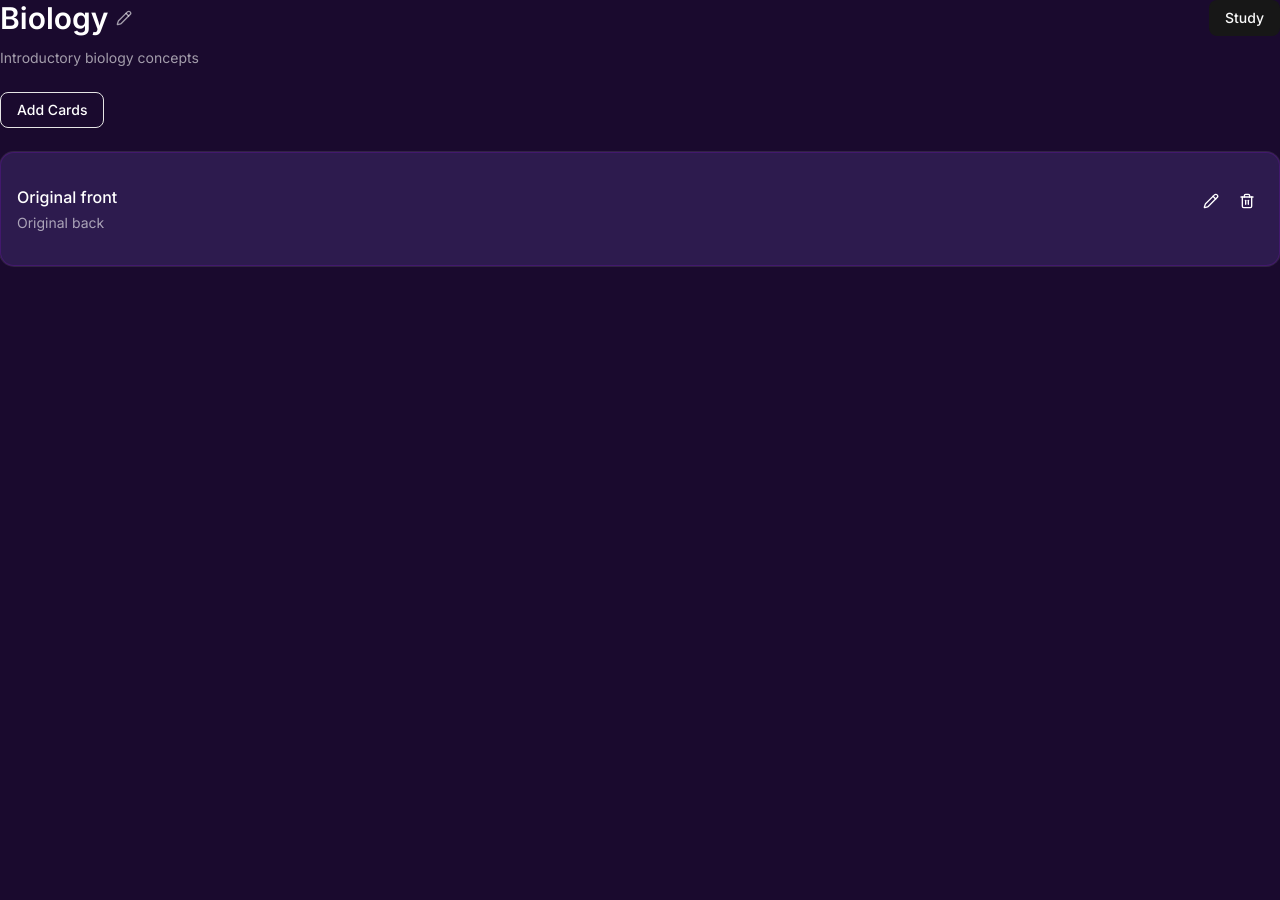
Test: DeckDetailView › edits and deletes cards from the loaded list
Expected: the text "Original front" is shown, [17,185,117,209]
Click the button named "edit card original front" at coordinates (1211, 201), box [1195,185,1227,217]
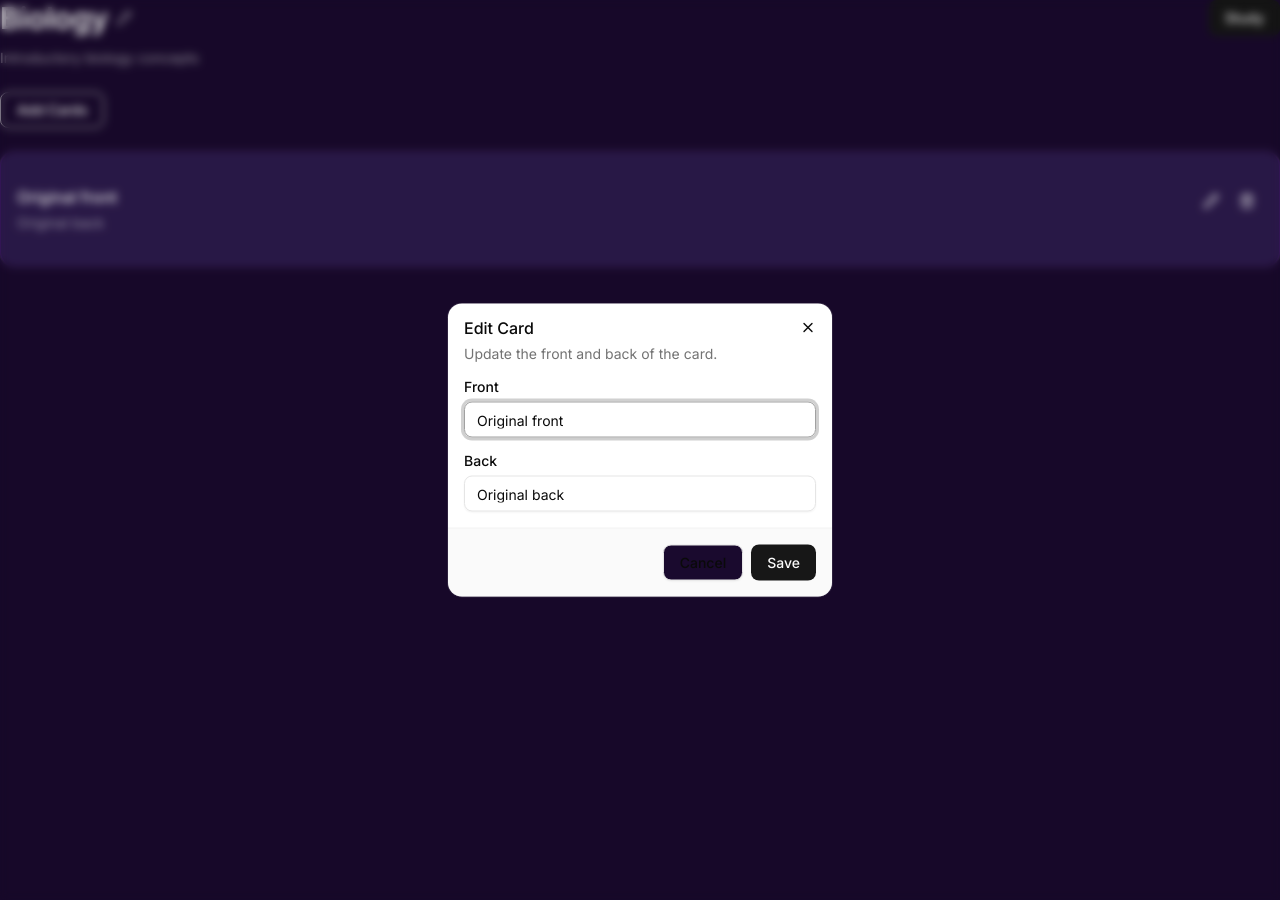
Replace the text in the field showing "Original front" with "Updated front" at coordinates (640, 420), box [464,402,816,438]
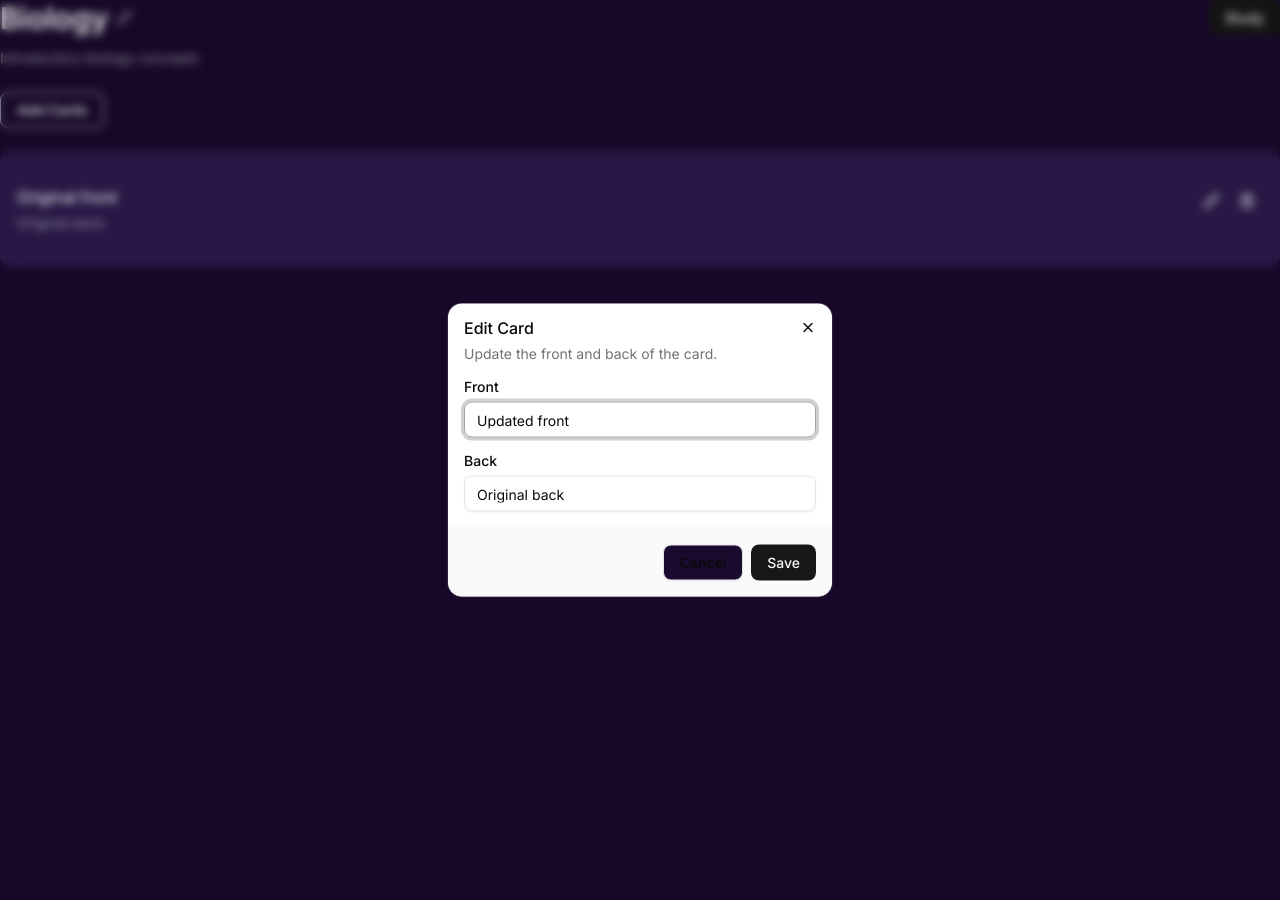
Replace the text in the field showing "Original back" with "Updated back" at coordinates (640, 494), box [464,476,816,512]
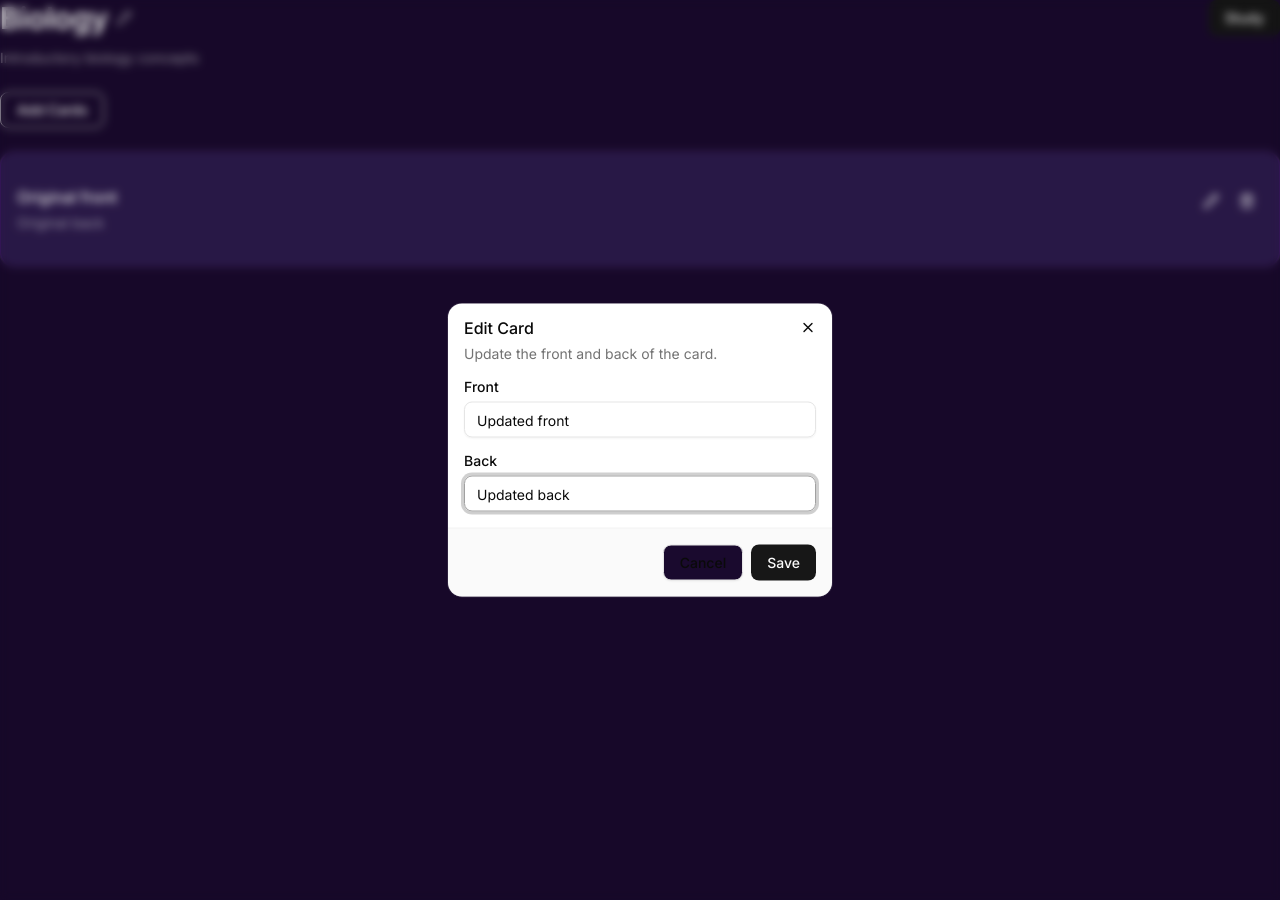
Click the button "Save" at coordinates (784, 562), box [751,544,816,580]
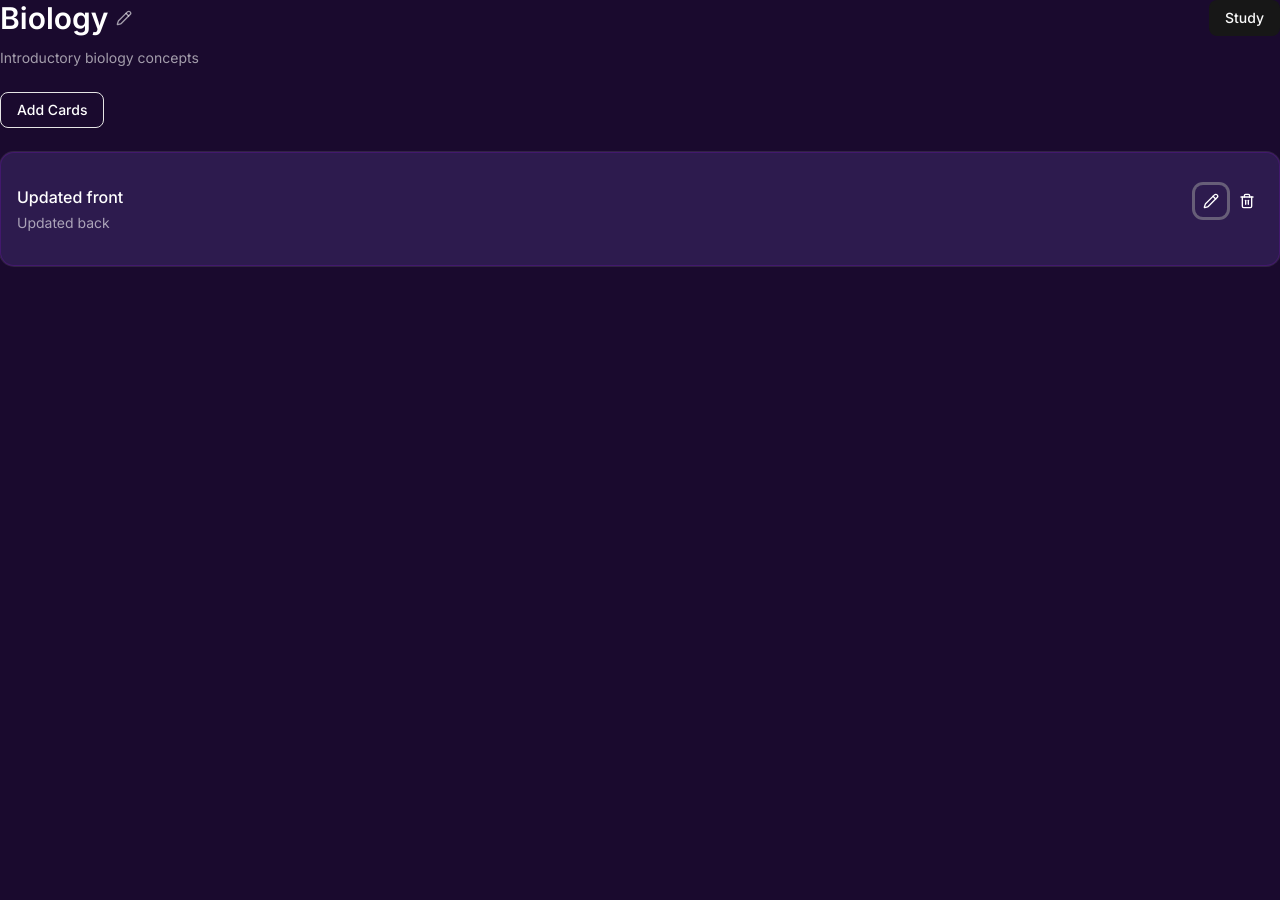
Expected: the text "Updated front" is shown, [17,185,123,209]
Click the button named "delete card updated front" at coordinates (1247, 201), box [1231,185,1263,217]
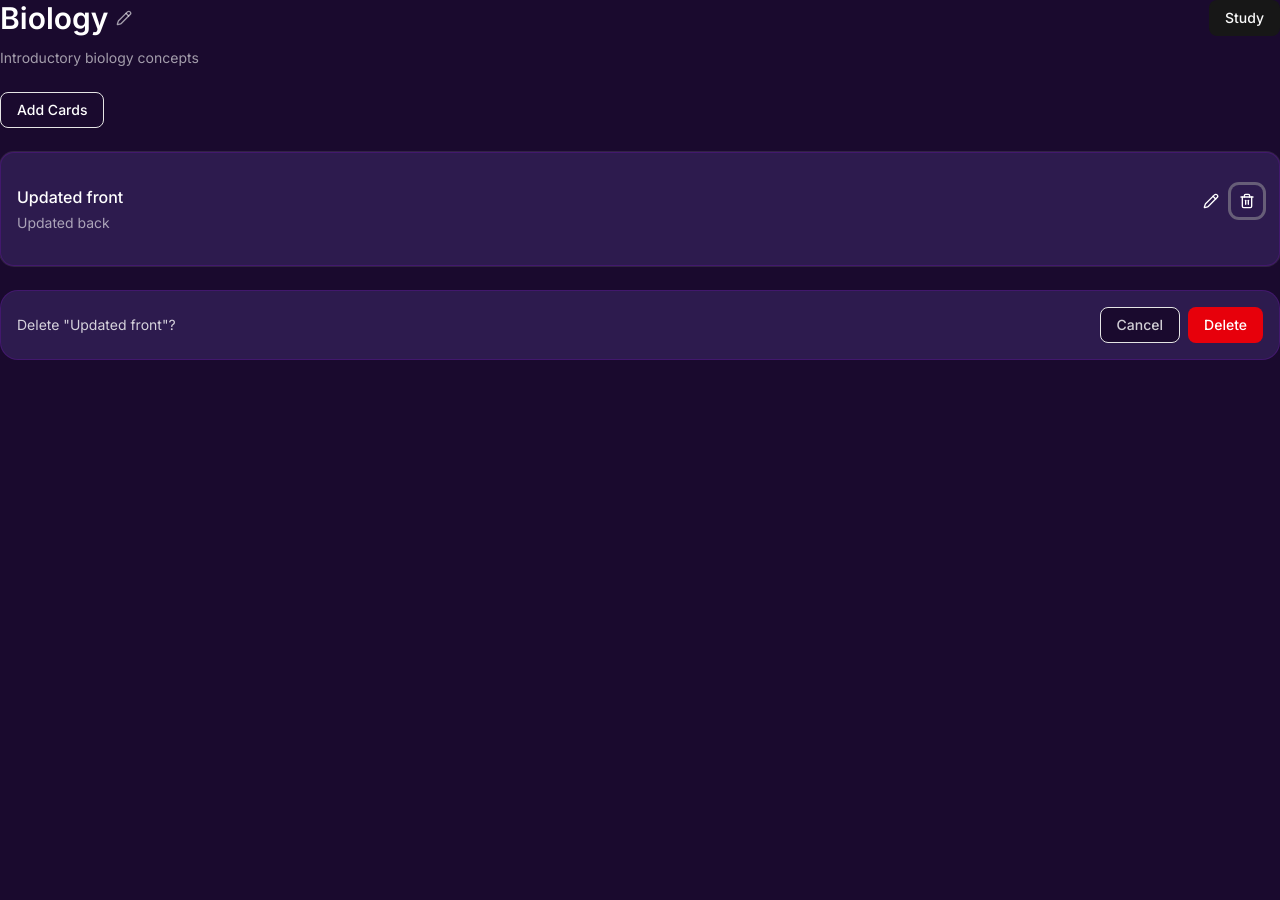
Expected: the text "Delete \"Updated front\"? Cancel Delete" is shown, [0,290,1279,360]
Click the button "Delete" at coordinates (1226, 325), box [1188,307,1263,343]
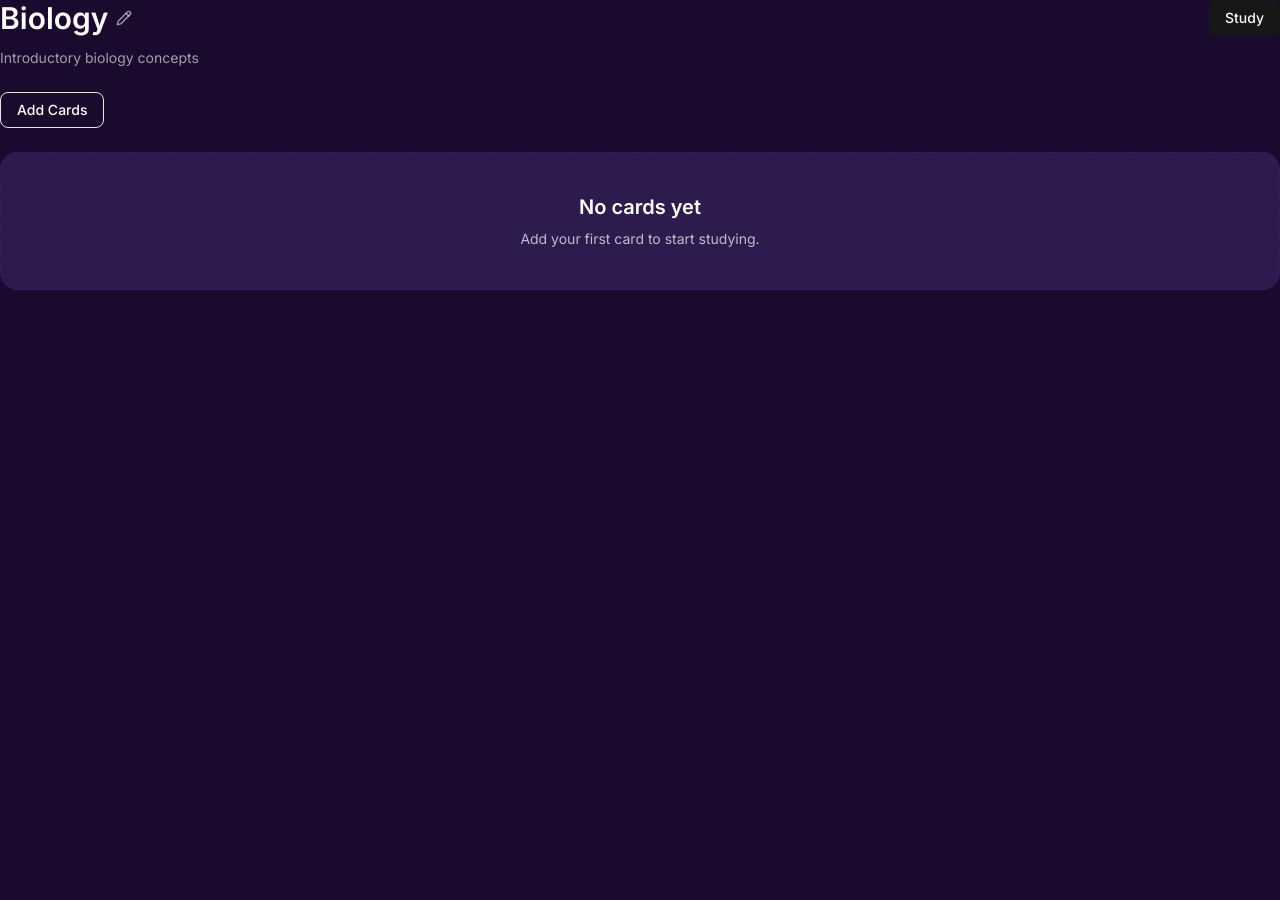
Expected: the heading "No cards yet" is shown, [579,195,701,219]
